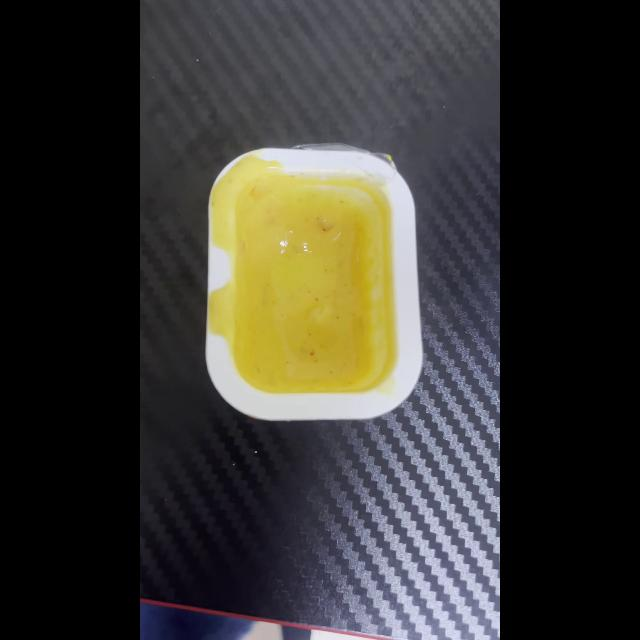dirty: (205, 148, 422, 418)
